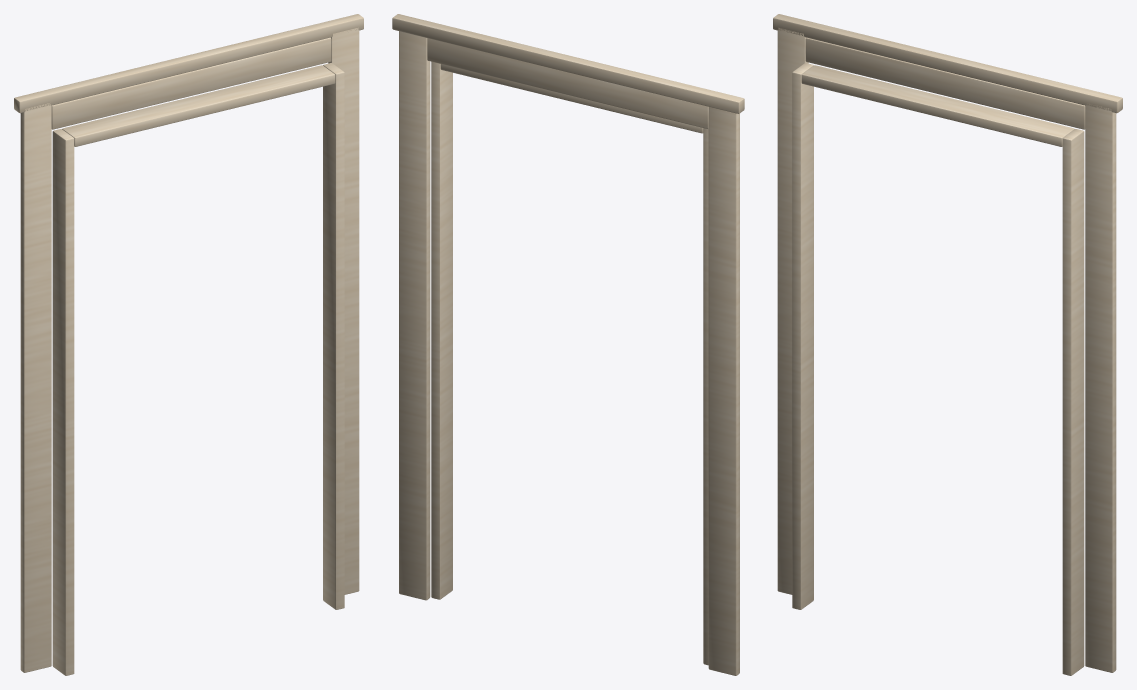
The model's file is SM_DoorFrame_Wide_2x3.fbx.
3 renders of one model, left to right at view 1: azimuth 30°, elevation 25°; view 2: azimuth 150°, elevation 25°; view 3: azimuth 330°, elevation 25°, orthographic.
Parts seen in each view (by area): view 1: SM_DoorFrame_Wide_2x3; view 2: SM_DoorFrame_Wide_2x3; view 3: SM_DoorFrame_Wide_2x3.
Boxes of the visible parts, <box> form: SM_DoorFrame_Wide_2x3: <box>14,14,363,675</box>; SM_DoorFrame_Wide_2x3: <box>392,14,744,675</box>; SM_DoorFrame_Wide_2x3: <box>773,14,1122,675</box>.
Size of the model in its own units: 1.48 by 2.35 by 0.145.
Materials: 1 (1 with a texture image).
